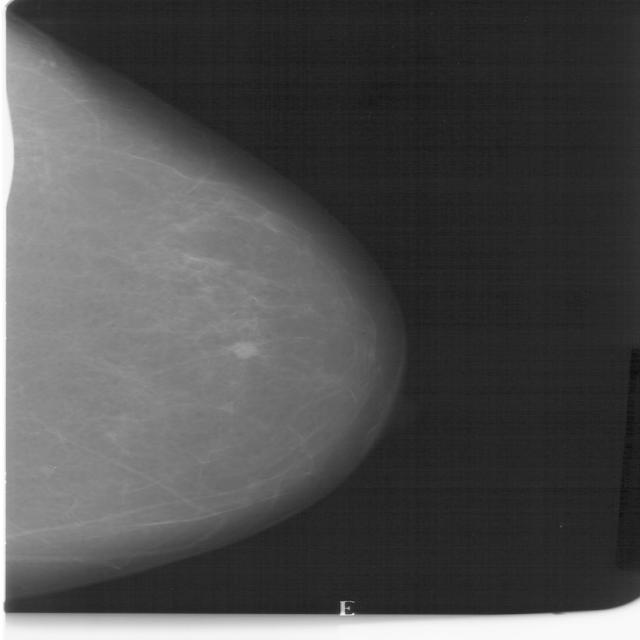tumour: (226, 339, 262, 359)
